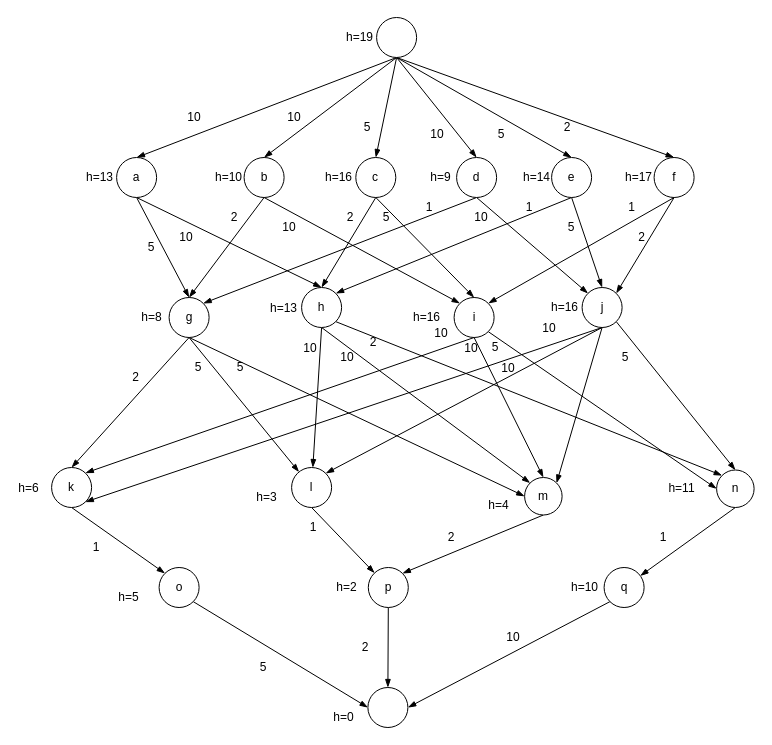
The diagram is 772 pixels wide and 745 high, and some of its shapes have lost their labels. The shapes that lost their labels are listed below. From the top down, each one's box as (x1, y1, x2, y2) in pixels, then its label:
(376, 16, 417, 58): S1
(367, 686, 408, 728): G1
